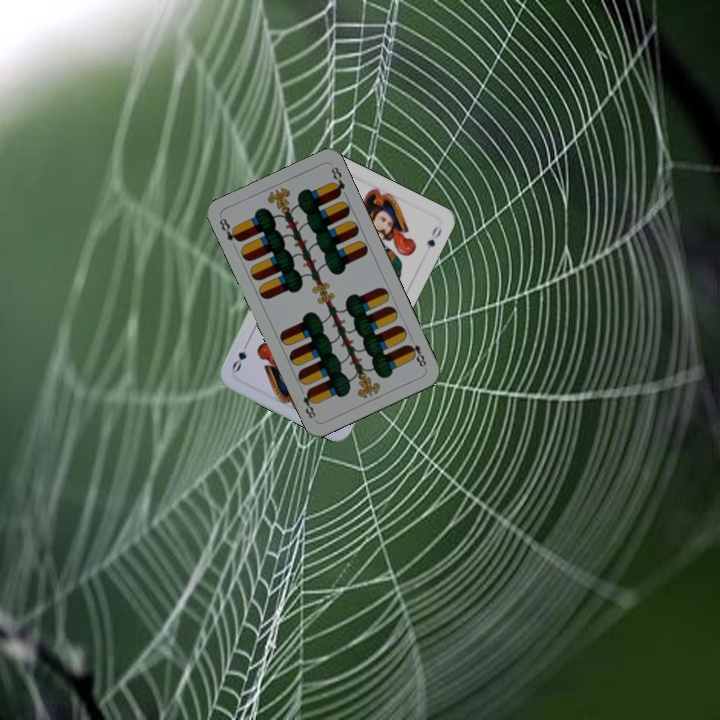E8: (403, 333, 429, 371), (215, 214, 243, 244)
